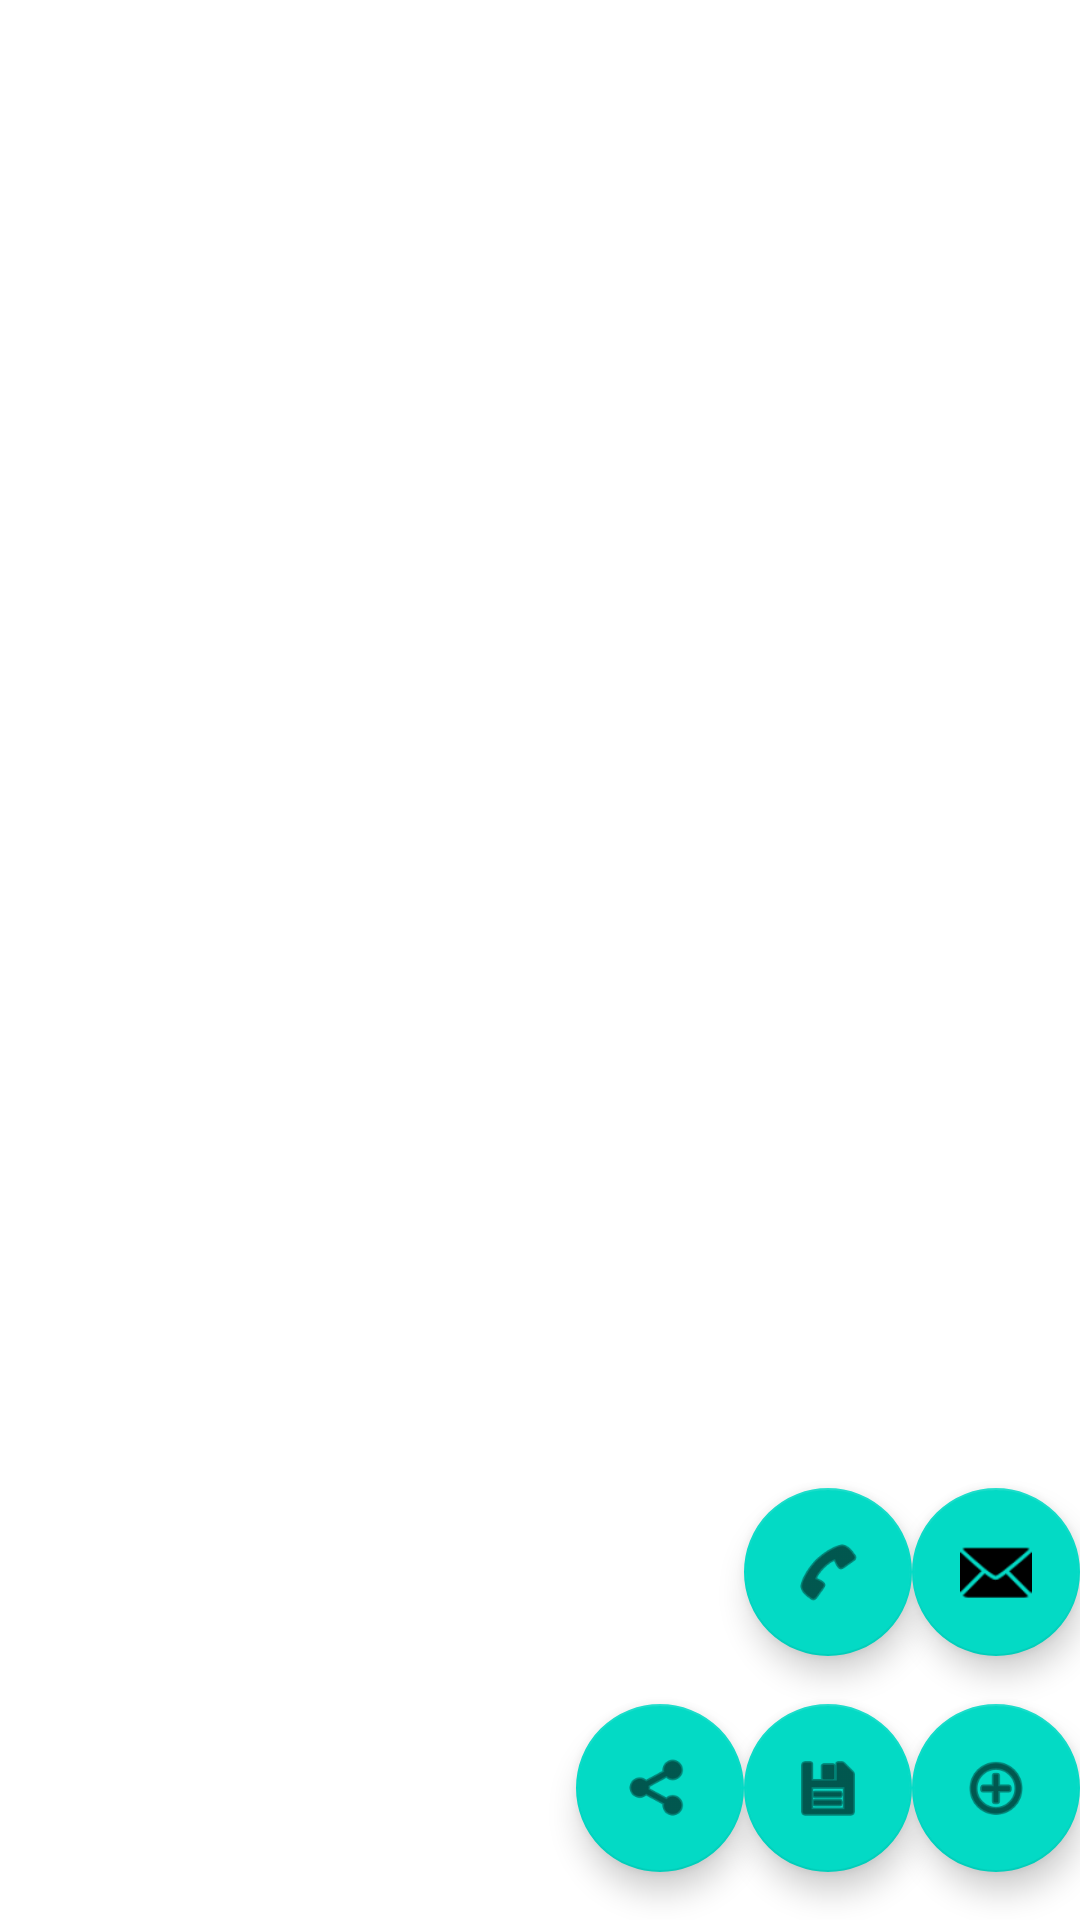

Locate icon controls on the screen. Image size 1080*1920, boxes as (x1, y1, x2, y2).
add: (912, 1704, 1080, 1872)
call: (744, 1488, 912, 1656)
email: (912, 1488, 1080, 1656)
save: (744, 1704, 912, 1872)
share: (576, 1704, 744, 1872)
